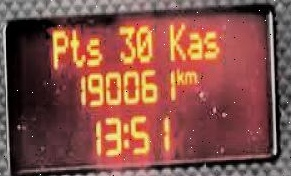0: (136, 23, 153, 61), (103, 70, 120, 106), (122, 68, 138, 104)
1: (161, 113, 172, 154), (75, 70, 86, 105), (93, 114, 100, 158), (168, 68, 175, 101)
3: (117, 23, 136, 63), (103, 113, 120, 156)
5: (128, 113, 149, 154)
6: (139, 64, 157, 103)
9: (87, 70, 103, 106)
X: (49, 26, 67, 68), (167, 18, 184, 61), (67, 28, 84, 66), (184, 28, 202, 61), (84, 35, 102, 66), (202, 28, 219, 59), (183, 70, 198, 85), (122, 119, 128, 148), (176, 65, 183, 85)
